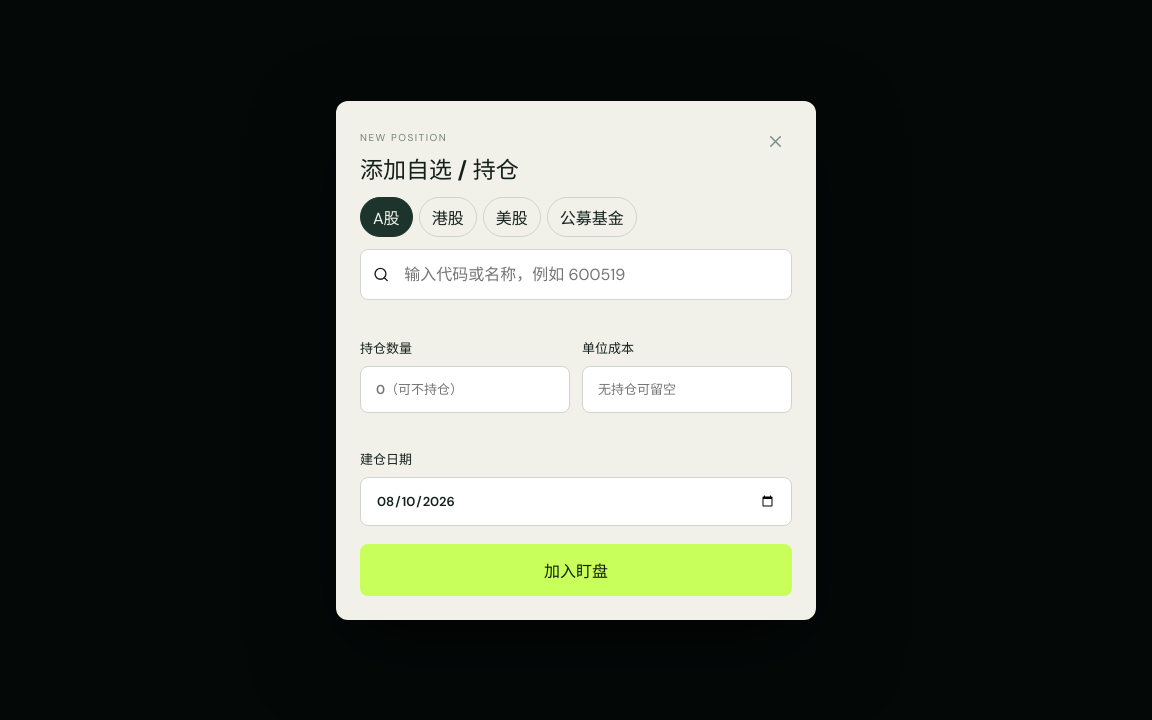
Test: AddPositionDialog › 搜索失败结束加载并展示错误
This screenshot has width=1152, height=720.
Type "600519" into the field with placeholder "输入代码或名称，例如 600519" at {"x": 590, "y": 274}, box [389,250,791,298]
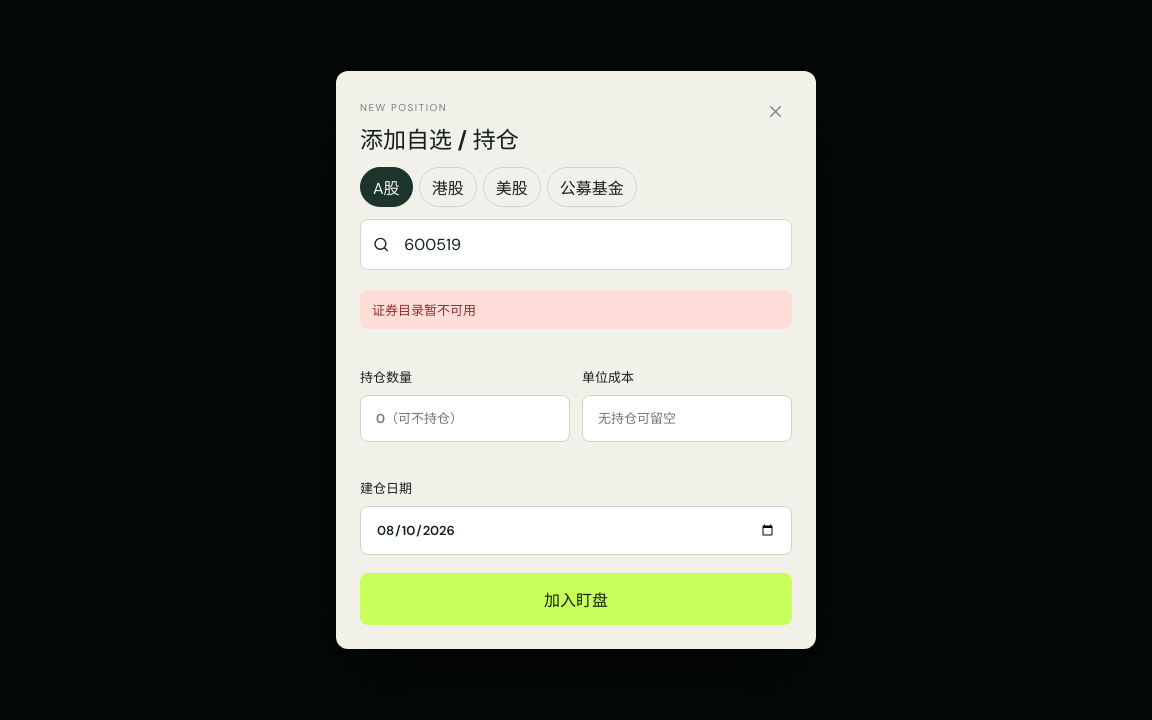
Expected: the text "证券目录暂不可用" is shown, [360,290,792,329]
